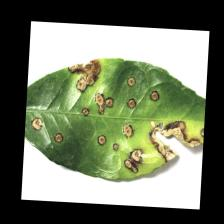canker: (28, 60, 206, 174)
